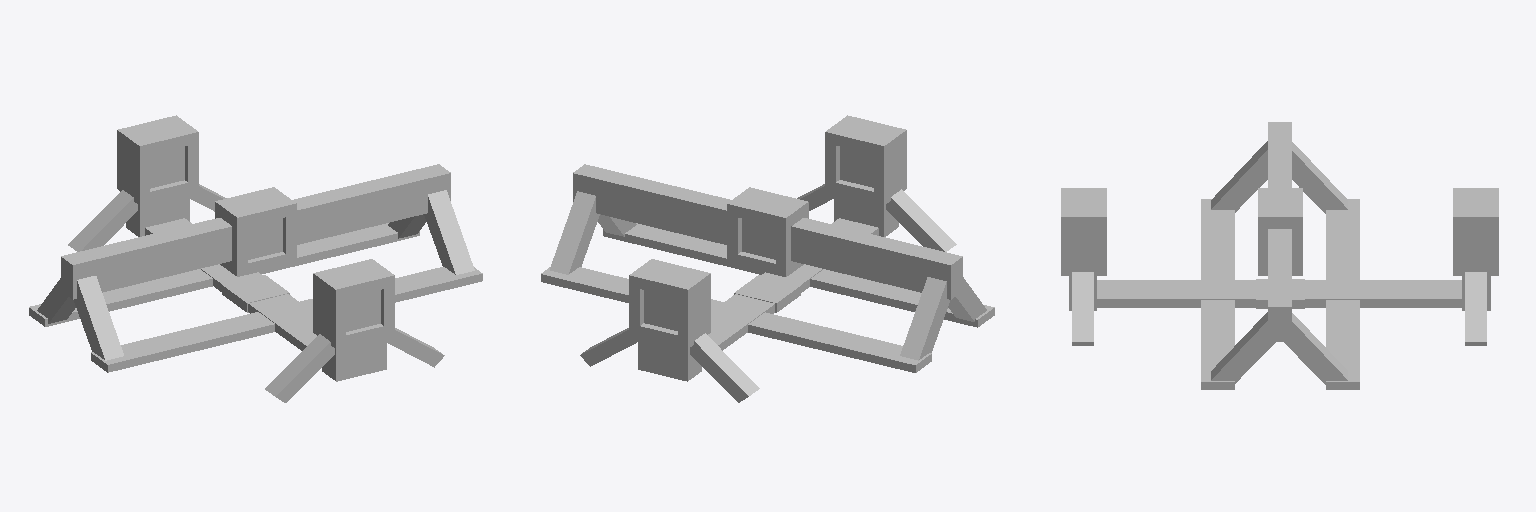
The model's file is millstone.obj.
The picture shows the model from 3 angles: view 1: azimuth 30°, elevation 25°; view 2: azimuth 150°, elevation 25°; view 3: azimuth 270°, elevation 25°; orthographic projection.
Parts seen in each view (by area): view 1: casing; view 2: casing; view 3: casing.
Boxes of the visible parts, box(x1,y1,x2,y2) form: casing: box(29, 115, 482, 402); casing: box(541, 115, 994, 402); casing: box(1061, 122, 1498, 389).
Bounding box in the file's own units: 3 × 0.8104 × 3.